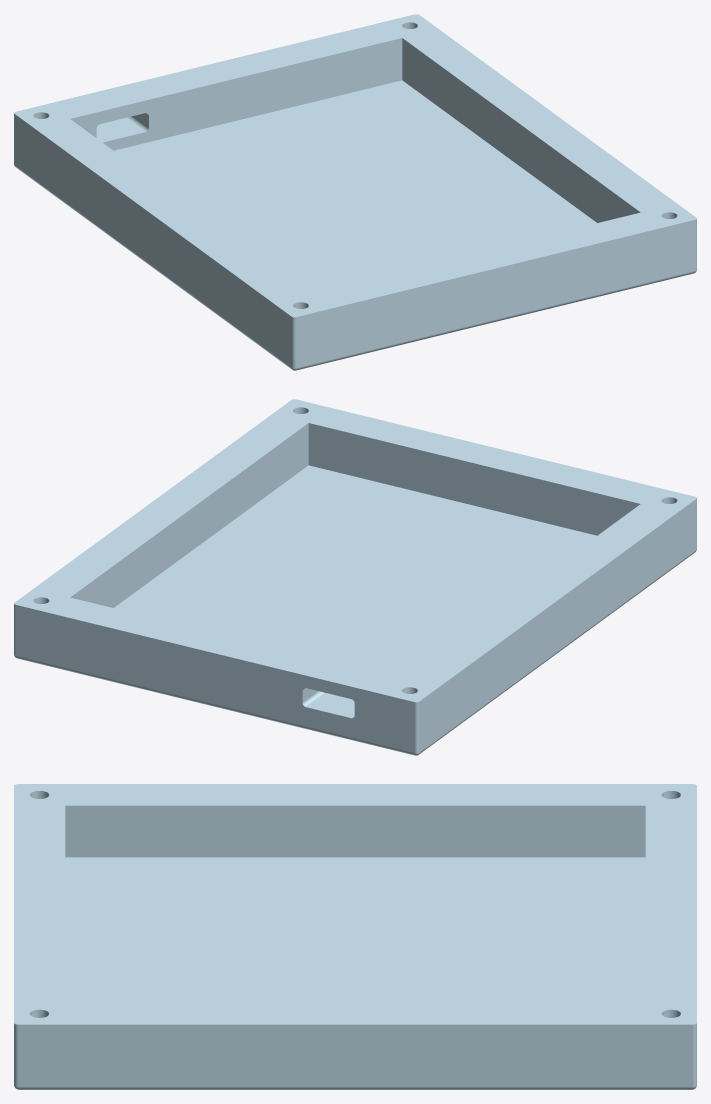
Rendered from Case Bottom.gltf.
3 views of the same model, one above another, from view 1: azimuth 30°, elevation 25°; view 2: azimuth 150°, elevation 25°; view 3: azimuth 270°, elevation 25° (orthographic). The views are drawn at different scales.
Parts seen in each view (by area): view 1: Case Bottom; view 2: Case Bottom; view 3: Case Bottom.
Part boxes in pixels (x1,y1,x2,y2): Case Bottom: [14, 14, 696, 370]; Case Bottom: [14, 399, 696, 755]; Case Bottom: [14, 784, 696, 1089].
Size of the model in its own units: 0.1 by 0.013 by 0.12.
